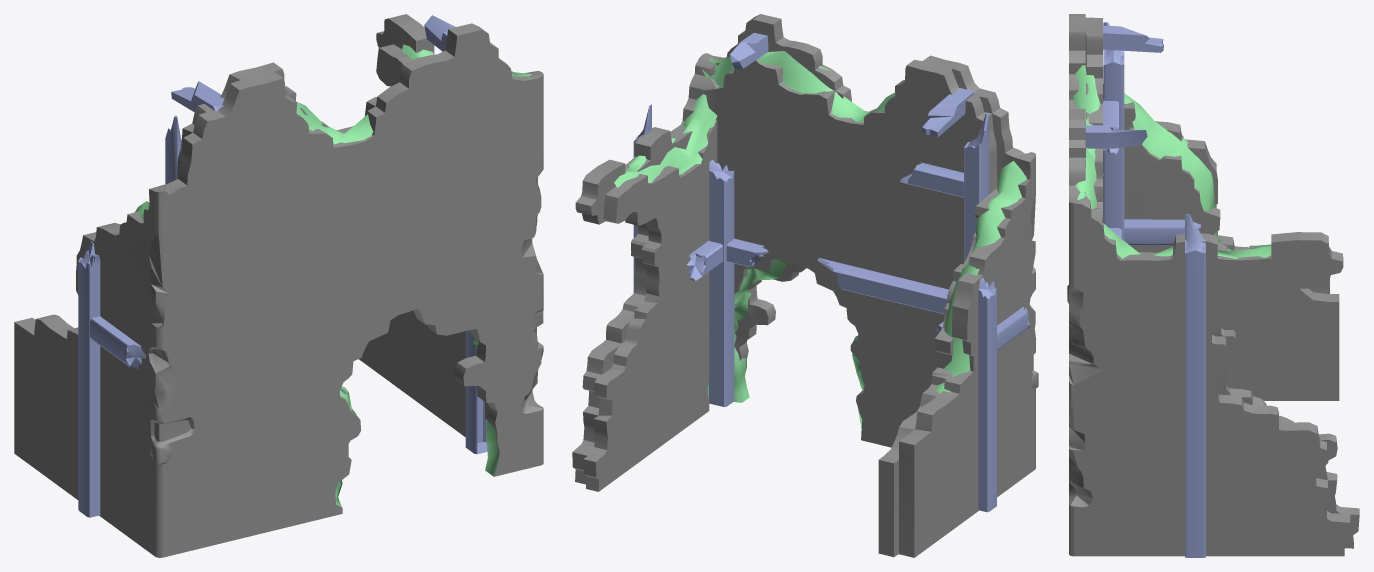
Rendered from SM_Castle_Entrance_B_ALT.fbx.
3 renders of one model, left to right at view 1: azimuth 30°, elevation 25°; view 2: azimuth 150°, elevation 25°; view 3: azimuth 270°, elevation 25°, orthographic. The views are drawn at different scales.
Visible parts, largest first — view 1: SM_Castle_Entrance_B_ALT_LOD0; view 2: SM_Castle_Entrance_B_ALT_LOD0; view 3: SM_Castle_Entrance_B_ALT_LOD0.
Boxes of the visible parts, x1,y1,x2,y2 form: SM_Castle_Entrance_B_ALT_LOD0: [14, 14, 543, 557]; SM_Castle_Entrance_B_ALT_LOD0: [572, 14, 1038, 557]; SM_Castle_Entrance_B_ALT_LOD0: [1067, 14, 1359, 557].
Size of what is drawn, in the model's own units: 825 by 873 by 565.
